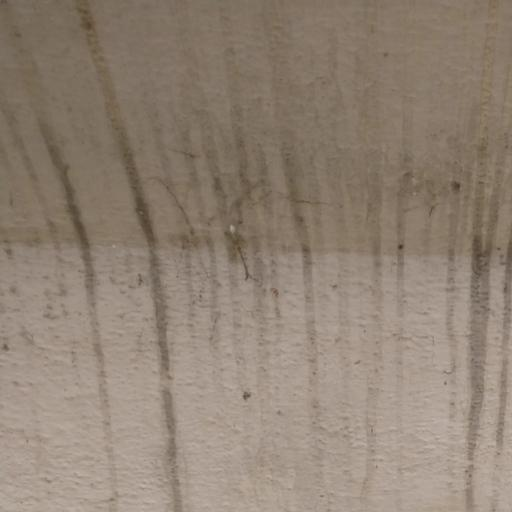stain: (0, 5, 512, 512)
